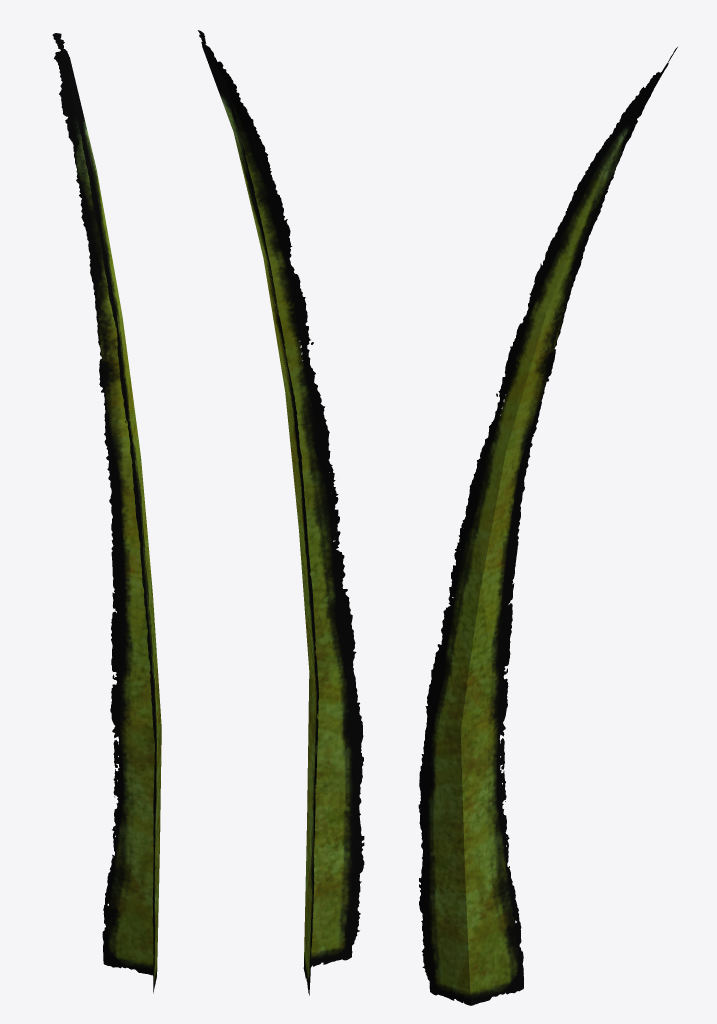
Rendered from grass_1C_mesh.fbx.
The picture shows the model from 3 angles, left to right: view 1: azimuth 30°, elevation 25°; view 2: azimuth 150°, elevation 25°; view 3: azimuth 270°, elevation 25°; orthographic projection. The views are drawn at different scales.
Parts seen in each view (by area): view 1: grass_1C; view 2: grass_1C; view 3: grass_1C.
Boxes of the visible parts, bbox=[...] form: grass_1C: bbox=[52, 33, 161, 993]; grass_1C: bbox=[198, 30, 364, 995]; grass_1C: bbox=[418, 47, 677, 1005].
Size of the model in its own units: 4.29 by 100 by 27.41.
